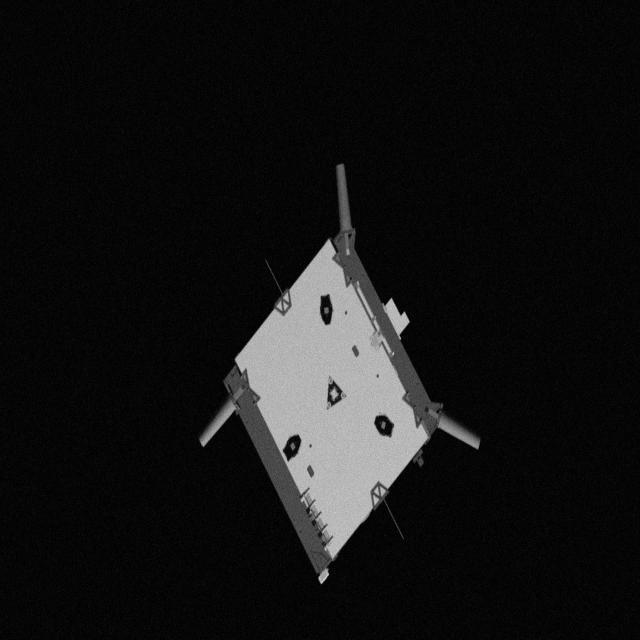medium_debris: (194, 162, 490, 586)
